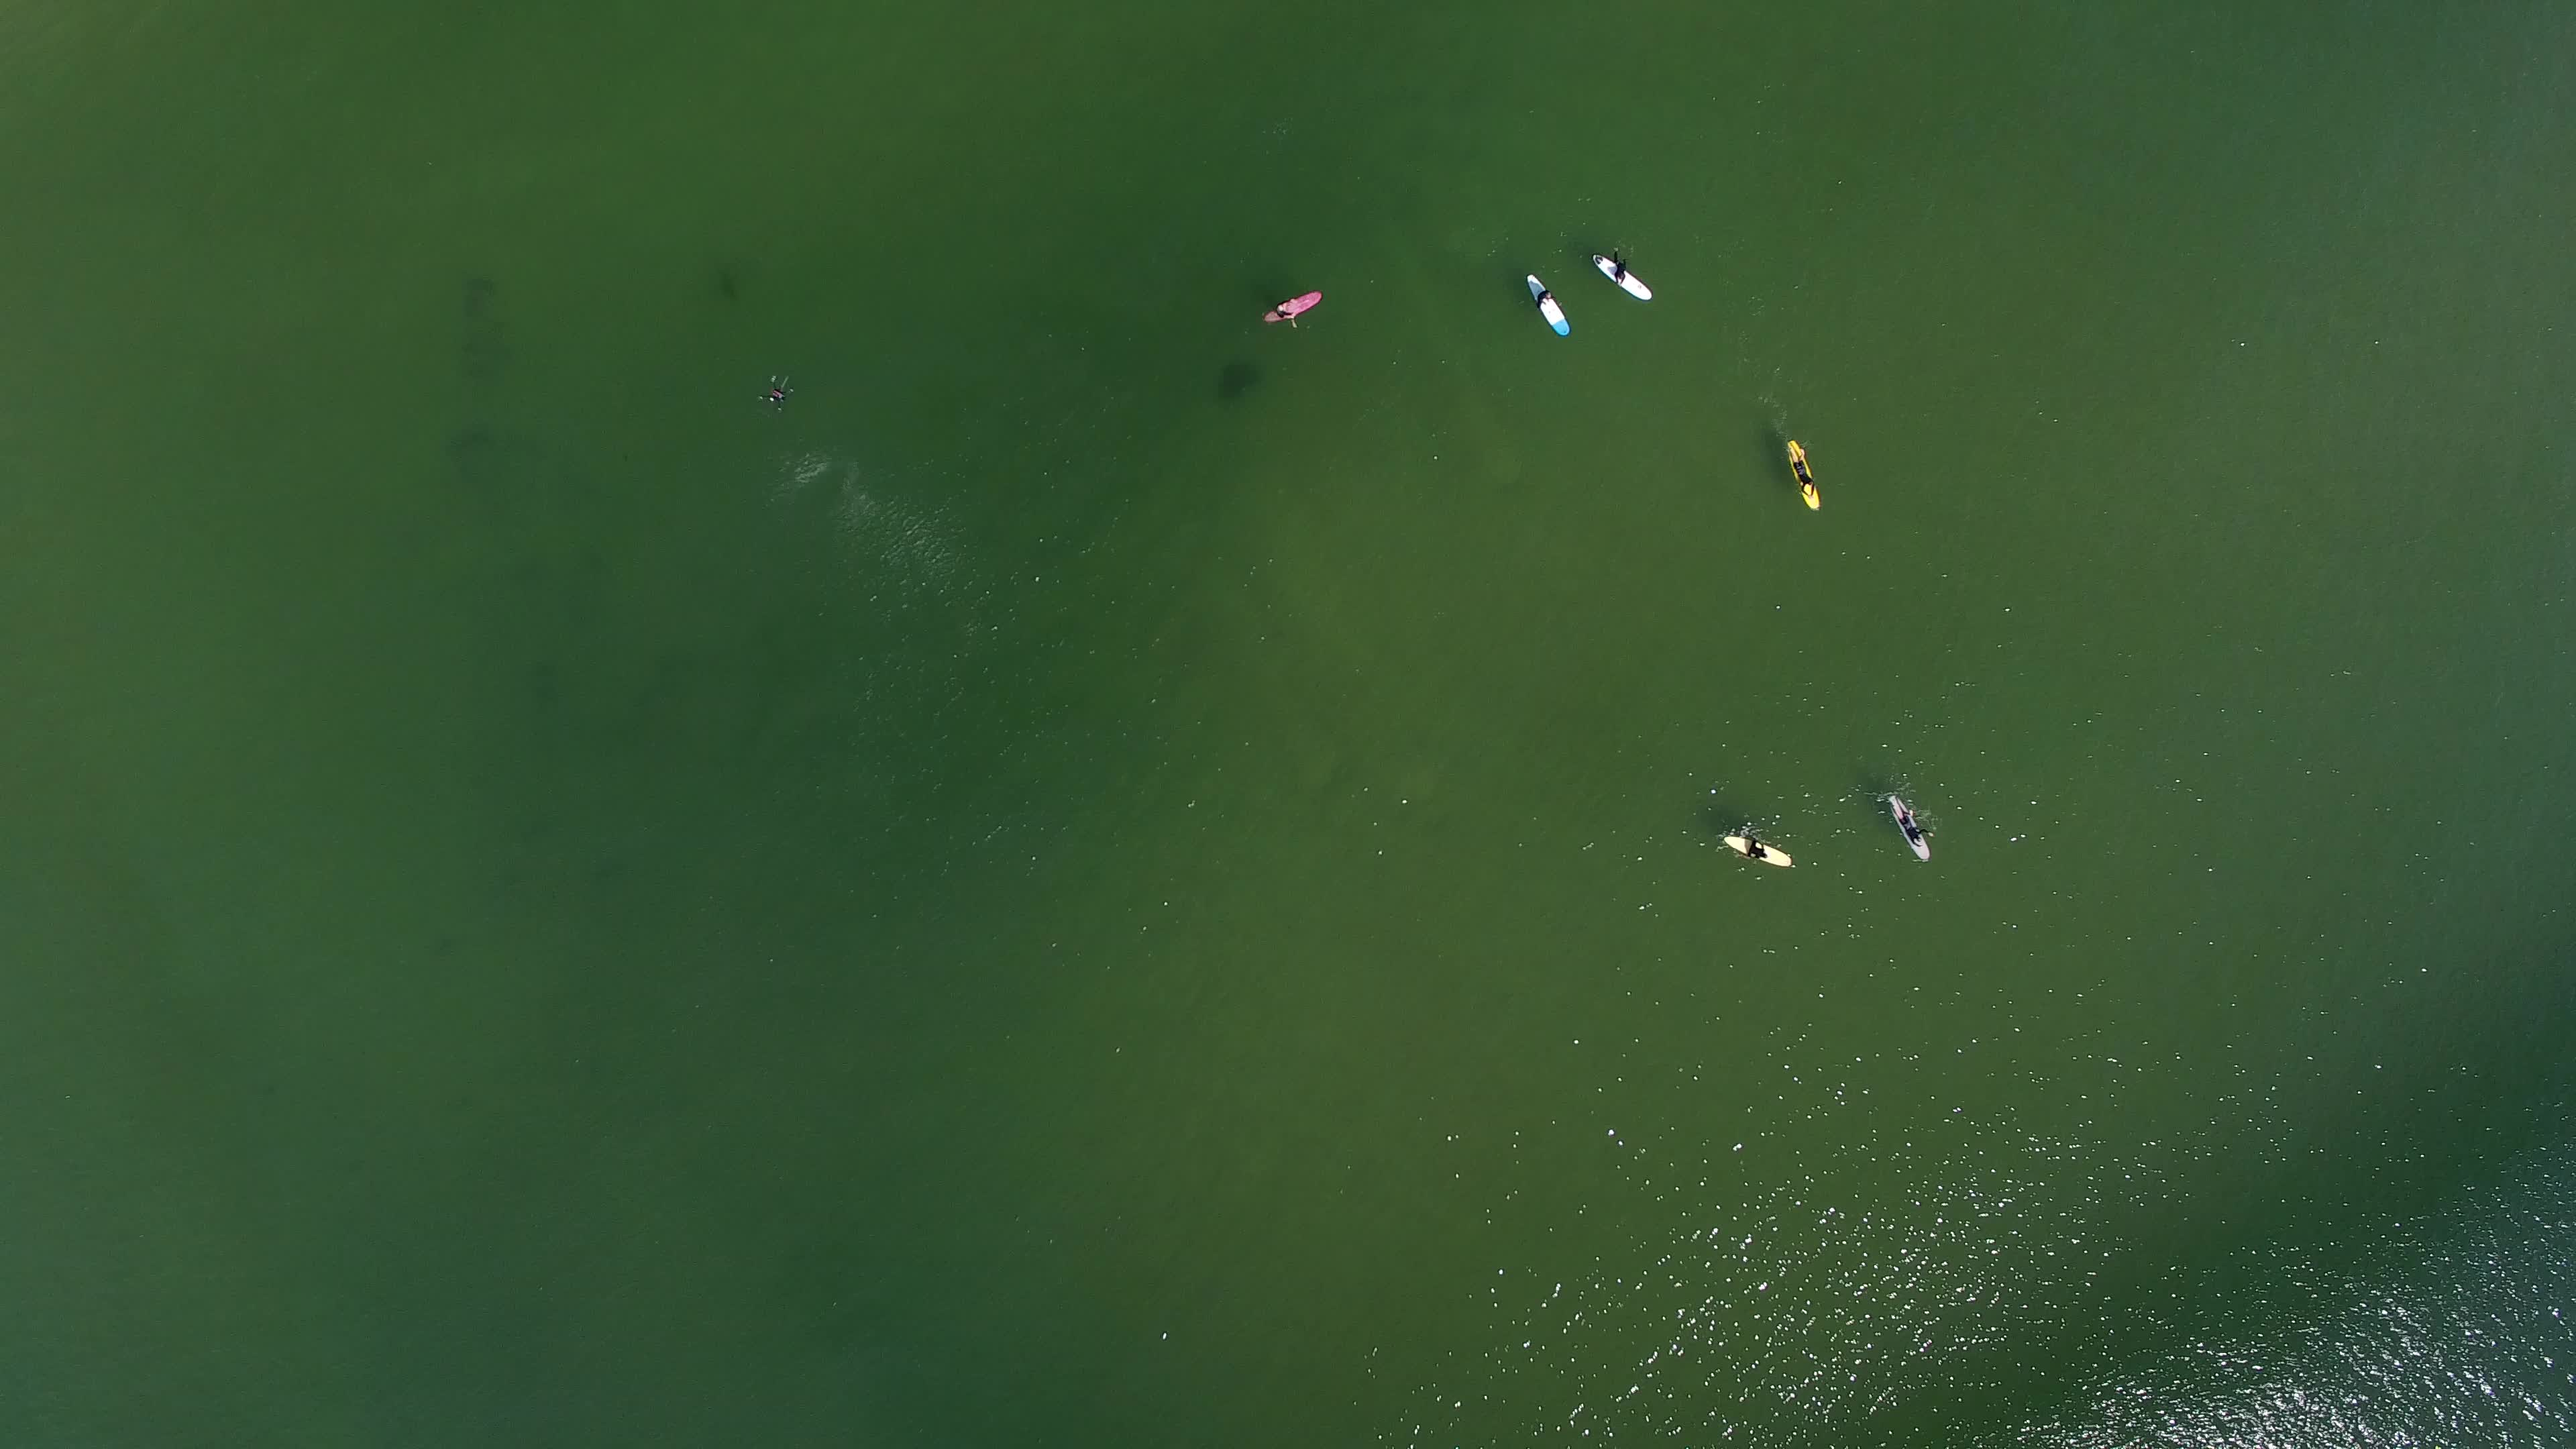surfer: (1875, 786, 1941, 867), (1583, 246, 1663, 306), (1780, 433, 1833, 522), (1518, 267, 1578, 343), (1718, 826, 1799, 874), (1258, 288, 1330, 333)
